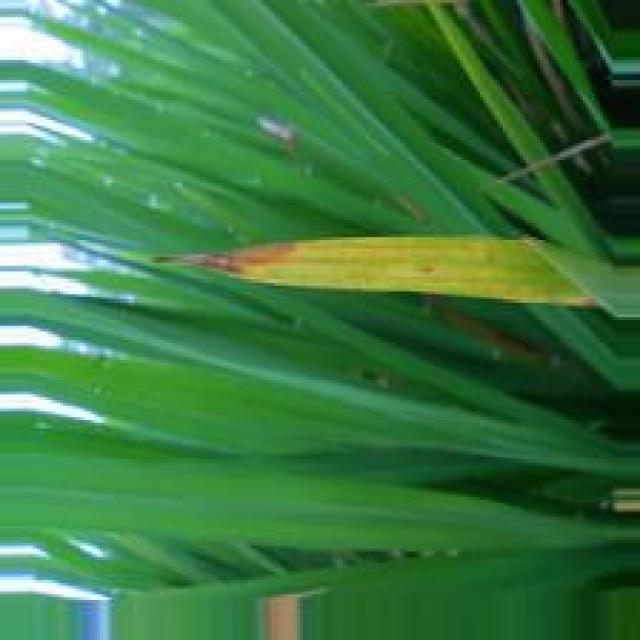Leaf_Scald: (195, 243, 307, 279)
